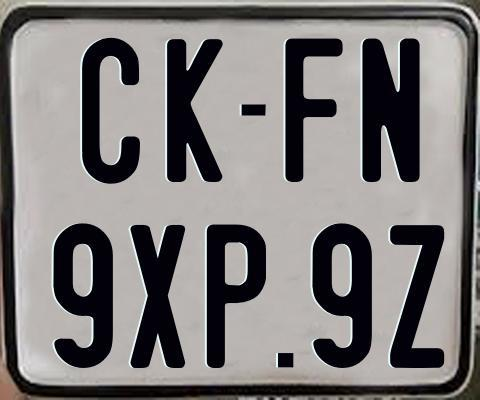9: (312, 220, 372, 371), (51, 220, 111, 365)
C: (82, 35, 145, 185)
F: (283, 37, 344, 182)
K: (167, 39, 229, 186)
N: (360, 38, 424, 183)
P: (204, 221, 268, 365)
X: (130, 225, 187, 370)
Z: (389, 225, 449, 370)
